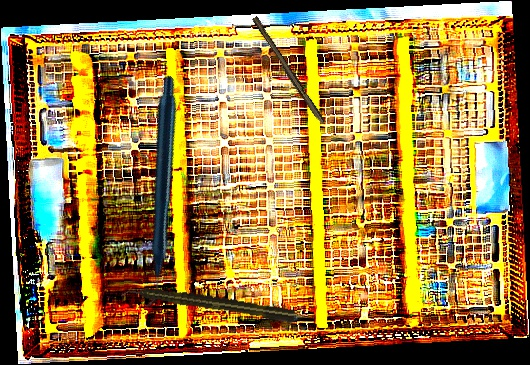Handpiece: (42, 72, 273, 311), (120, 281, 298, 325)
Scalpel Handle: (248, 15, 328, 127)
